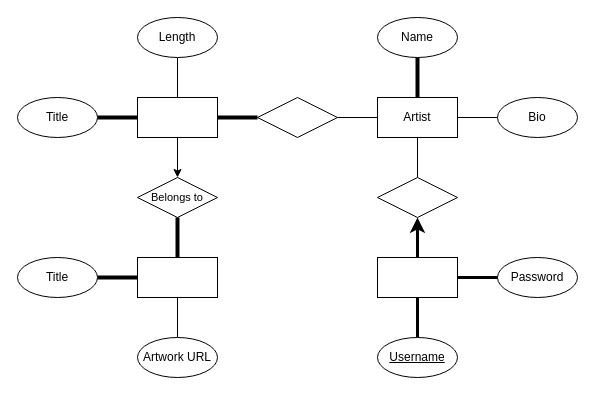
Image size: 595x395. Some labels were removed from this diagram. The centre of each missing label's shape, as x and y in pixels:
"Album" goes at [177,277].
"Has A" goes at [417,197].
"Song" goes at [177,117].
"User Account" goes at [417,277].
"Written By" goes at [297,117].
